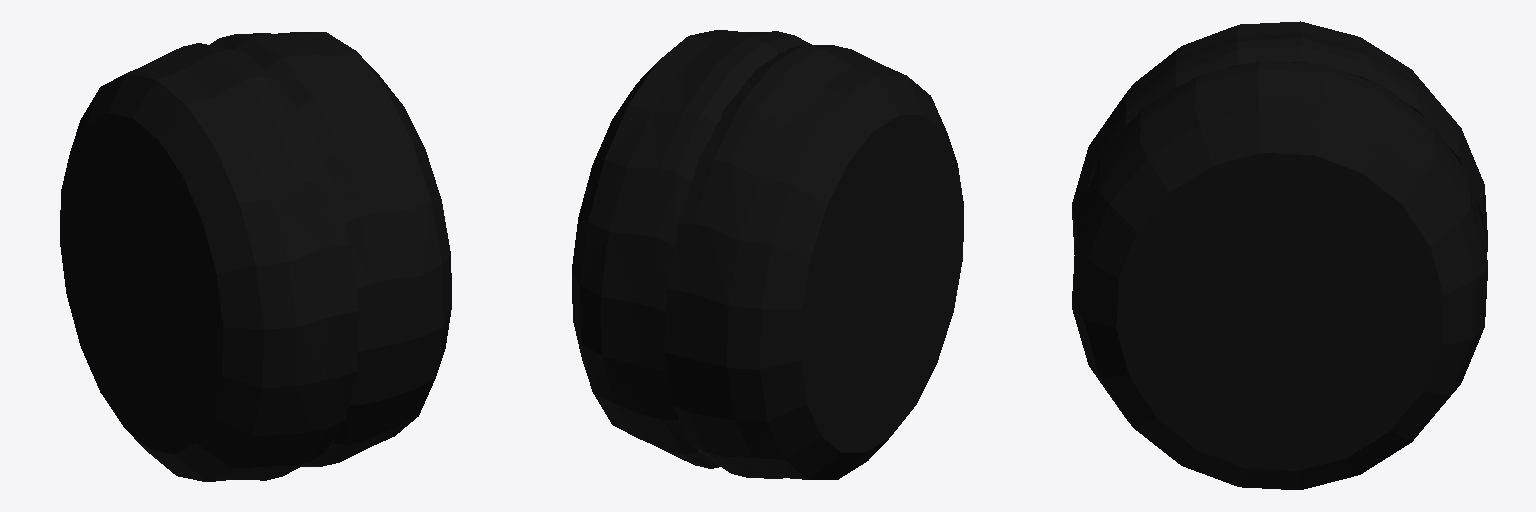
File: Drone.Wheel.Wheel.obj
3 renders of one model, left to right at view 1: azimuth 30°, elevation 25°; view 2: azimuth 150°, elevation 25°; view 3: azimuth 270°, elevation 25°, orthographic.
Parts seen in each view (by area): view 1: Figure_1.001; view 2: Figure_1.001; view 3: Figure_1.001.
Boxes of the visible parts, <box> form: Figure_1.001: <box>60,32,451,481</box>; Figure_1.001: <box>572,30,963,479</box>; Figure_1.001: <box>1072,21,1487,489</box>.
Size of the model in its own units: 0.2745 by 0.4636 by 0.4321.